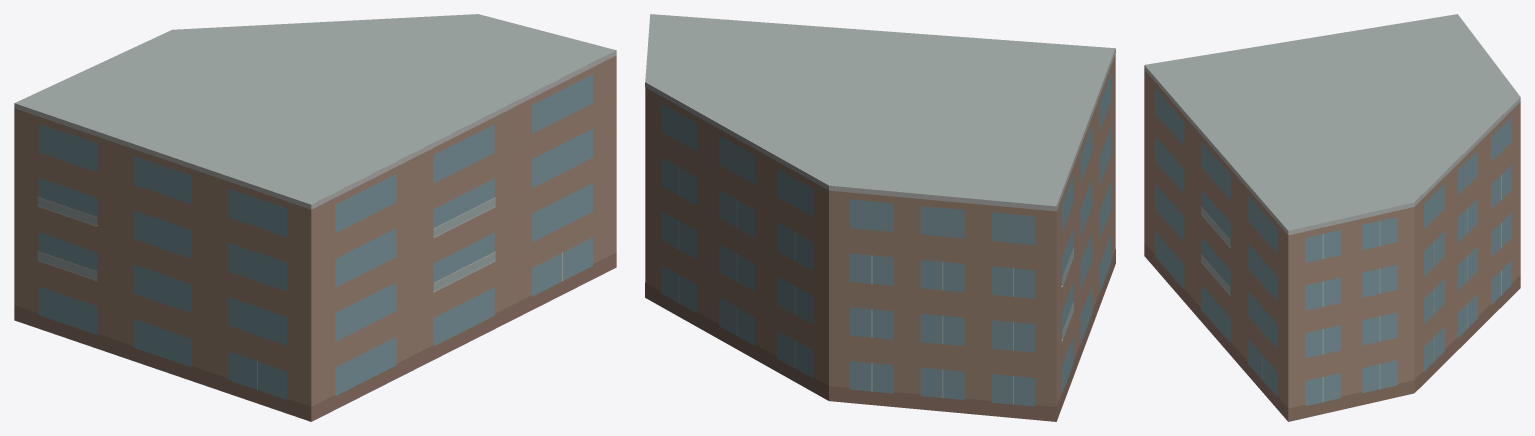
The model's file is survey-upis-32866901.glb.
3 renders of one model, left to right at view 1: azimuth 30°, elevation 25°; view 2: azimuth 150°, elevation 25°; view 3: azimuth 270°, elevation 25°, orthographic. The views are drawn at different scales.
Parts seen in each view (by area): view 1: survey-upis-32866901.tmp; view 2: survey-upis-32866901.tmp; view 3: survey-upis-32866901.tmp.
Part boxes in pixels (x1=…): survey-upis-32866901.tmp: x1=14, y1=14, x2=616, y2=421; survey-upis-32866901.tmp: x1=645, y1=14, x2=1115, y2=421; survey-upis-32866901.tmp: x1=1144, y1=14, x2=1520, y2=421.
Bounding box in the file's own units: 25.61 × 10.5 × 18.77.
